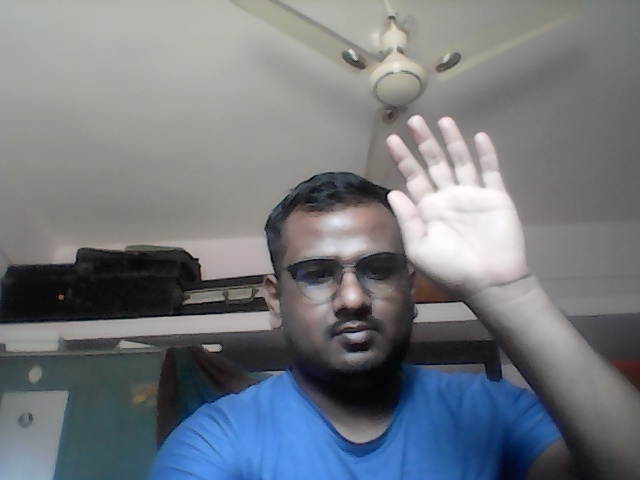Hello: (385, 112, 535, 294)
